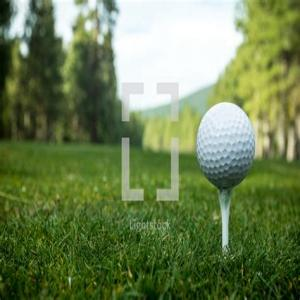Golf: (196, 101, 255, 189)
